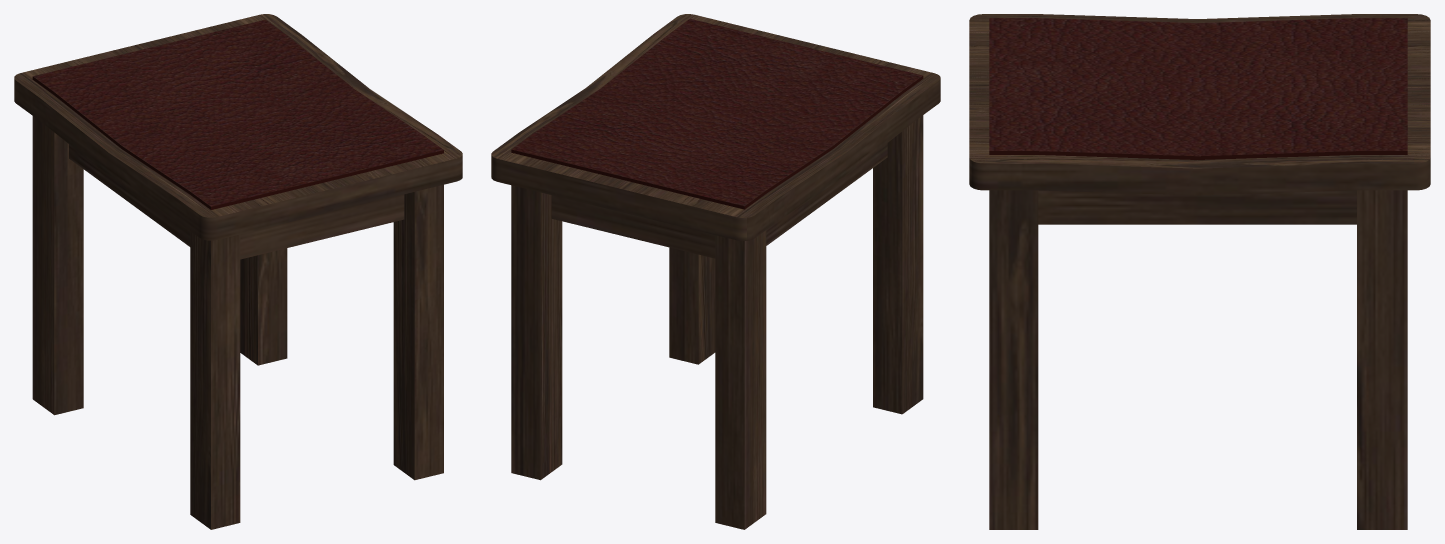
The model's file is F_Chair.fbx.
3 renders of one model, left to right at view 1: azimuth 30°, elevation 25°; view 2: azimuth 150°, elevation 25°; view 3: azimuth 270°, elevation 25°, orthographic. The views are drawn at different scales.
Visible parts, largest first — view 1: F_Chair; view 2: F_Chair; view 3: F_Chair.
Boxes of the visible parts, x1,y1,x2,y2 form: F_Chair: (14, 14, 462, 529); F_Chair: (491, 14, 940, 529); F_Chair: (969, 14, 1430, 529).
Bounding box in the file's own units: 39.18 × 46.3 × 51.08.
Materials: 1 (1 with a texture image).
